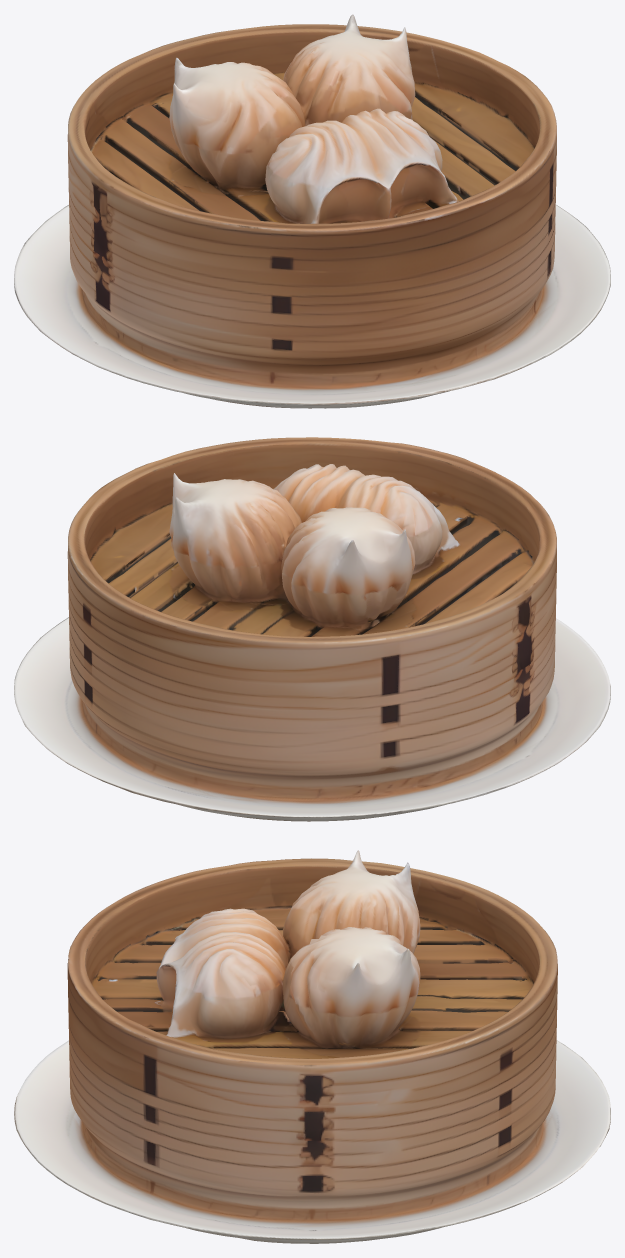
File: dim_sum.glb
3 renders of one model, top to bottom at view 1: azimuth 30°, elevation 25°; view 2: azimuth 150°, elevation 25°; view 3: azimuth 270°, elevation 25°, orthographic.
Visible parts, largest first — view 1: model; view 2: model; view 3: model.
Boxes of the visible parts, x1,y1,x2,y2 form: model: [14, 14, 610, 408]; model: [14, 437, 610, 821]; model: [14, 850, 610, 1243].
Bounding box in the file's own units: 1.9 × 0.8276 × 1.89.
1 material, 1 textured.
